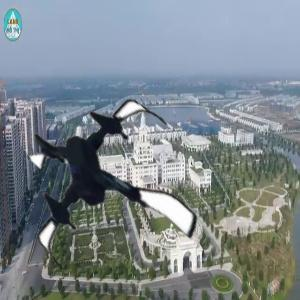drone: (14, 94, 207, 287)
